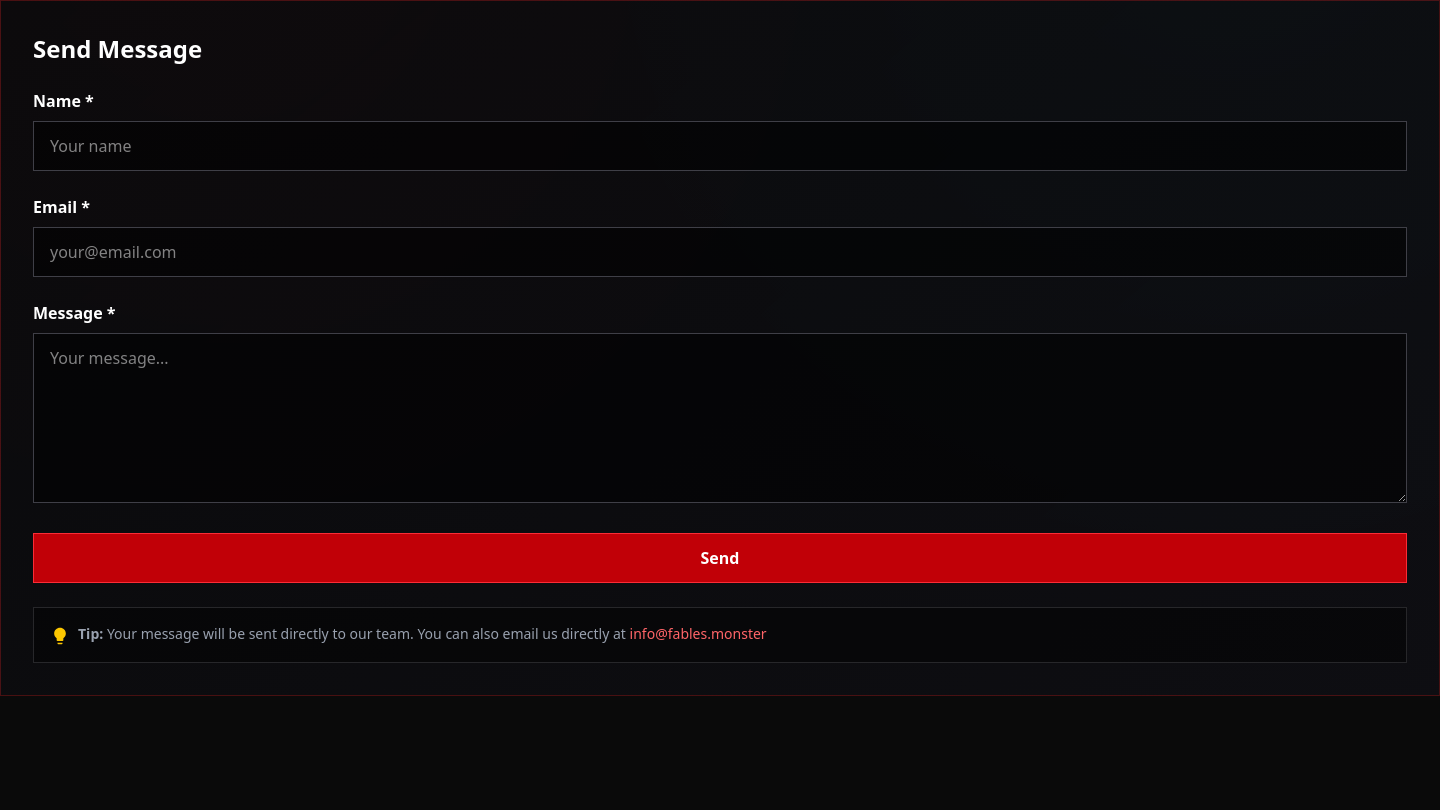
Test: ContactForm › submits form and shows success
In the field with placeholder "Your name": (720, 146) [33,121,1407,171], type "Test Name"
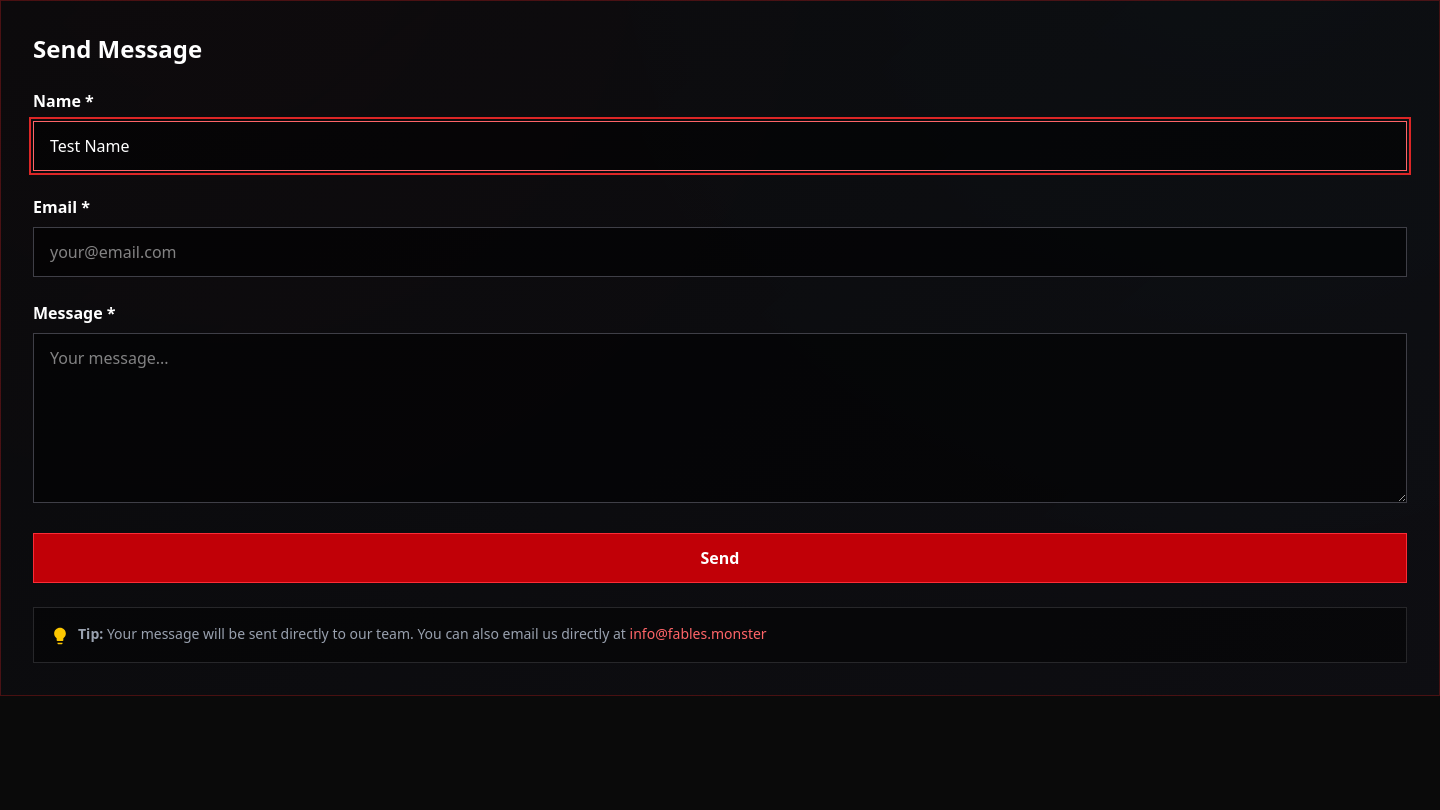
In the field with placeholder "your@email.com": (720, 252) [33,227,1407,277], type "test@email.com"
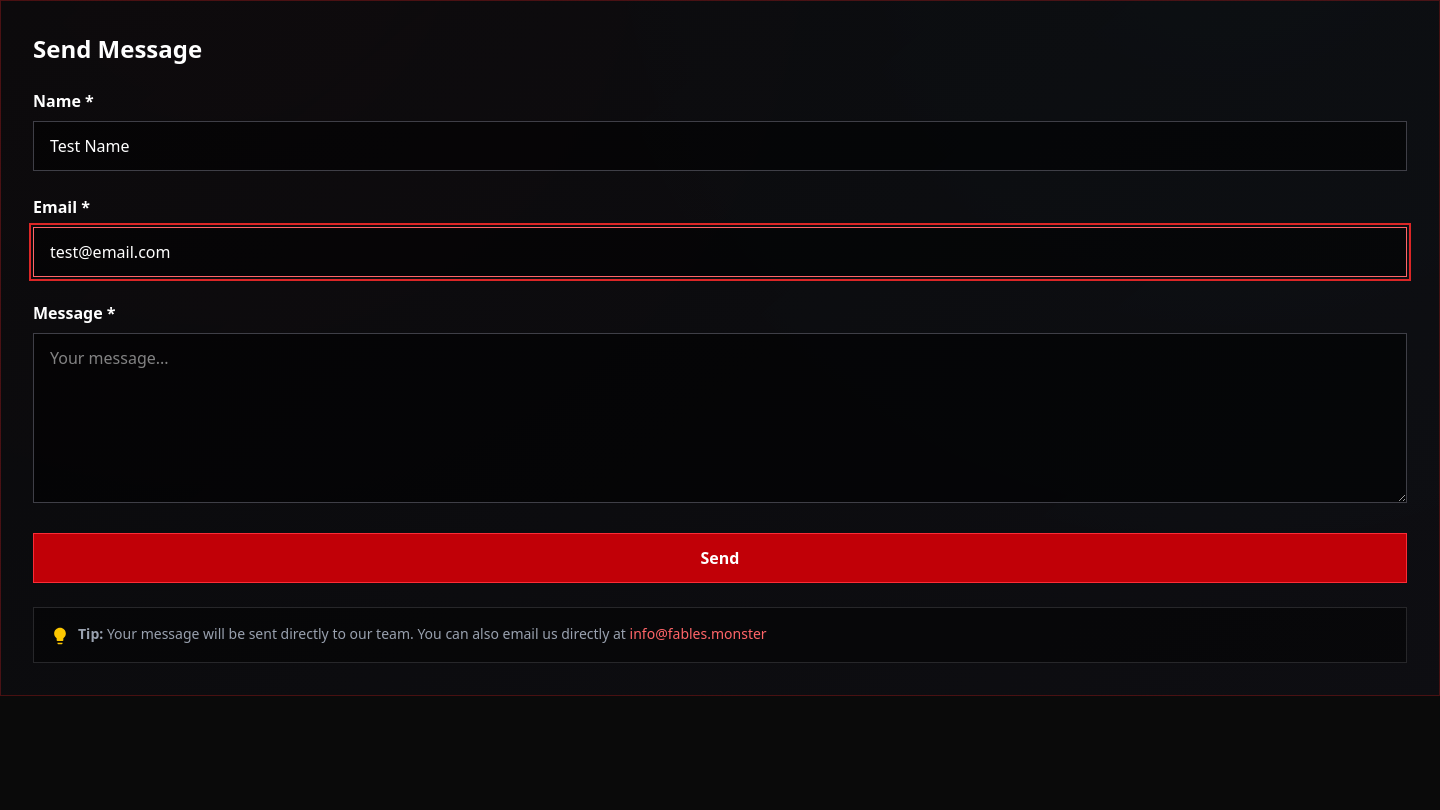
In the text box with placeholder "Your message...": (720, 418) [33,333,1407,503], type "Hello there"
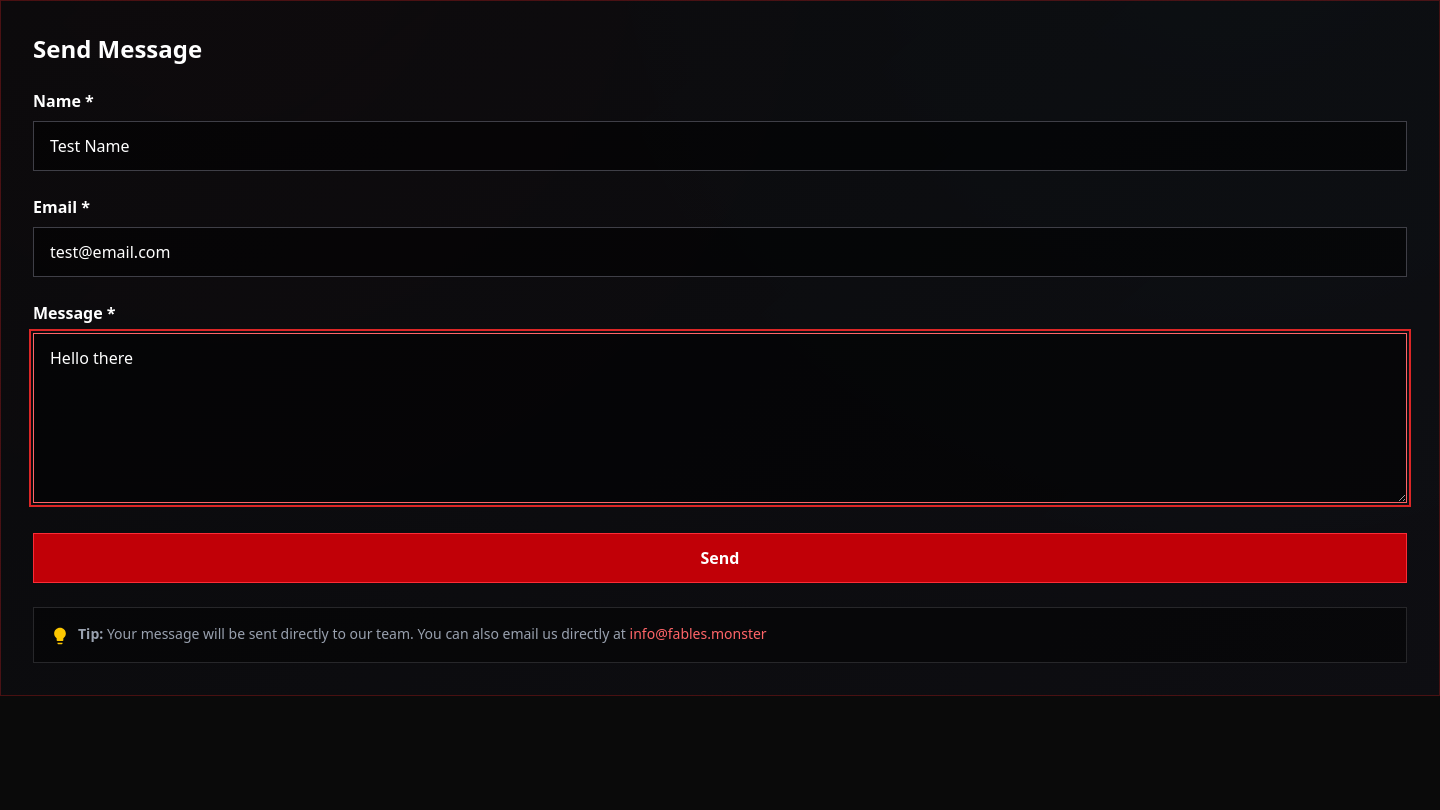
Click the button "Send": (720, 558) [33,533,1407,583]
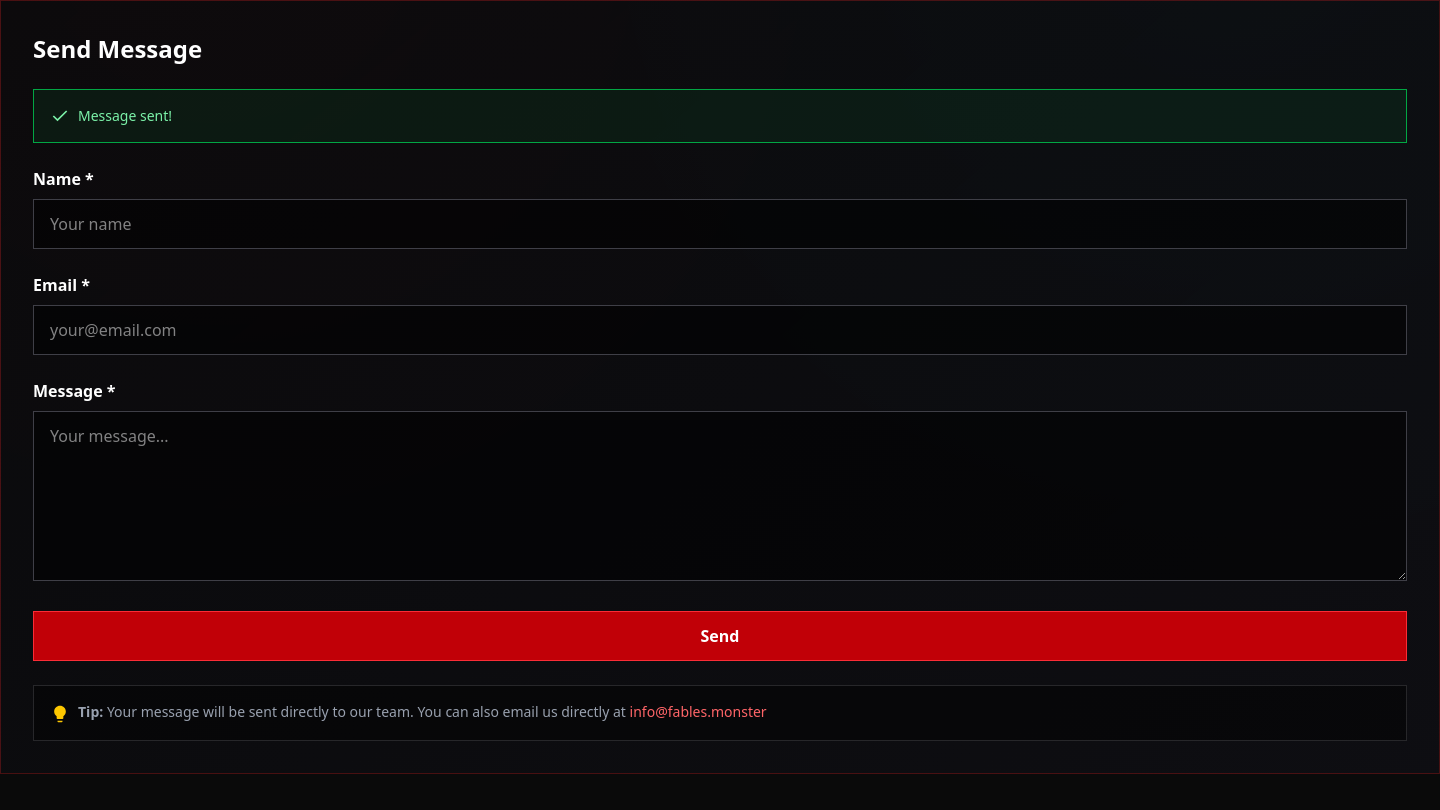
Expected: the text "Message sent!" is shown, [78,106,172,126]
